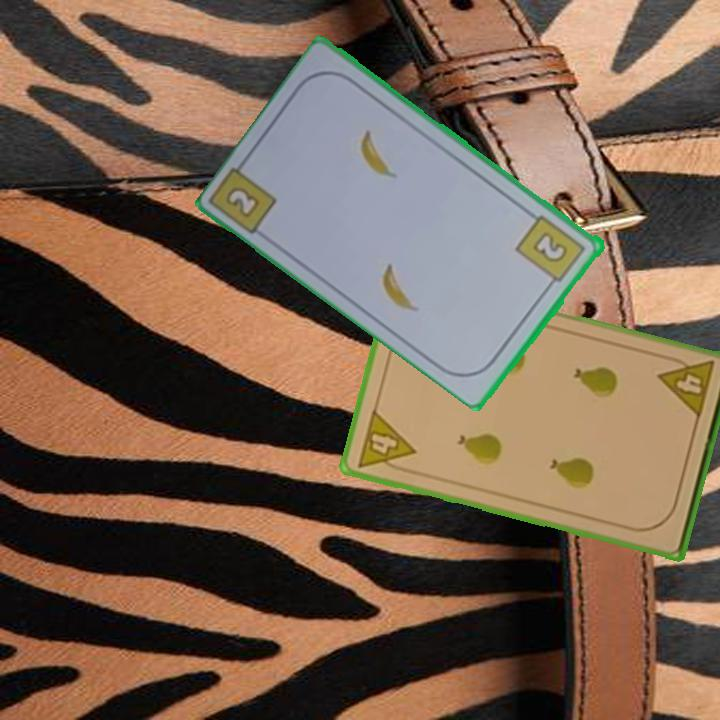2b: (513, 211, 589, 291), (222, 182, 264, 221)
4p: (354, 406, 418, 477), (655, 352, 717, 422)
